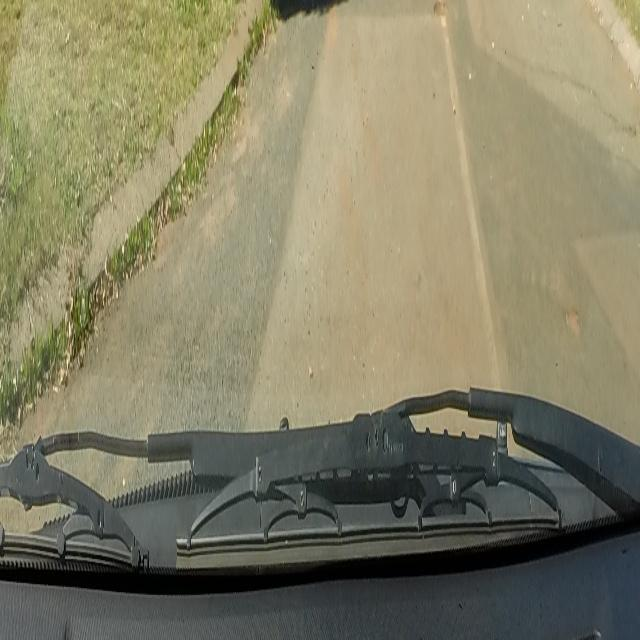pothole: (432, 0, 450, 21)
